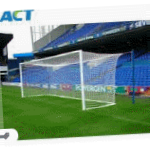goals: (18, 49, 116, 112)
